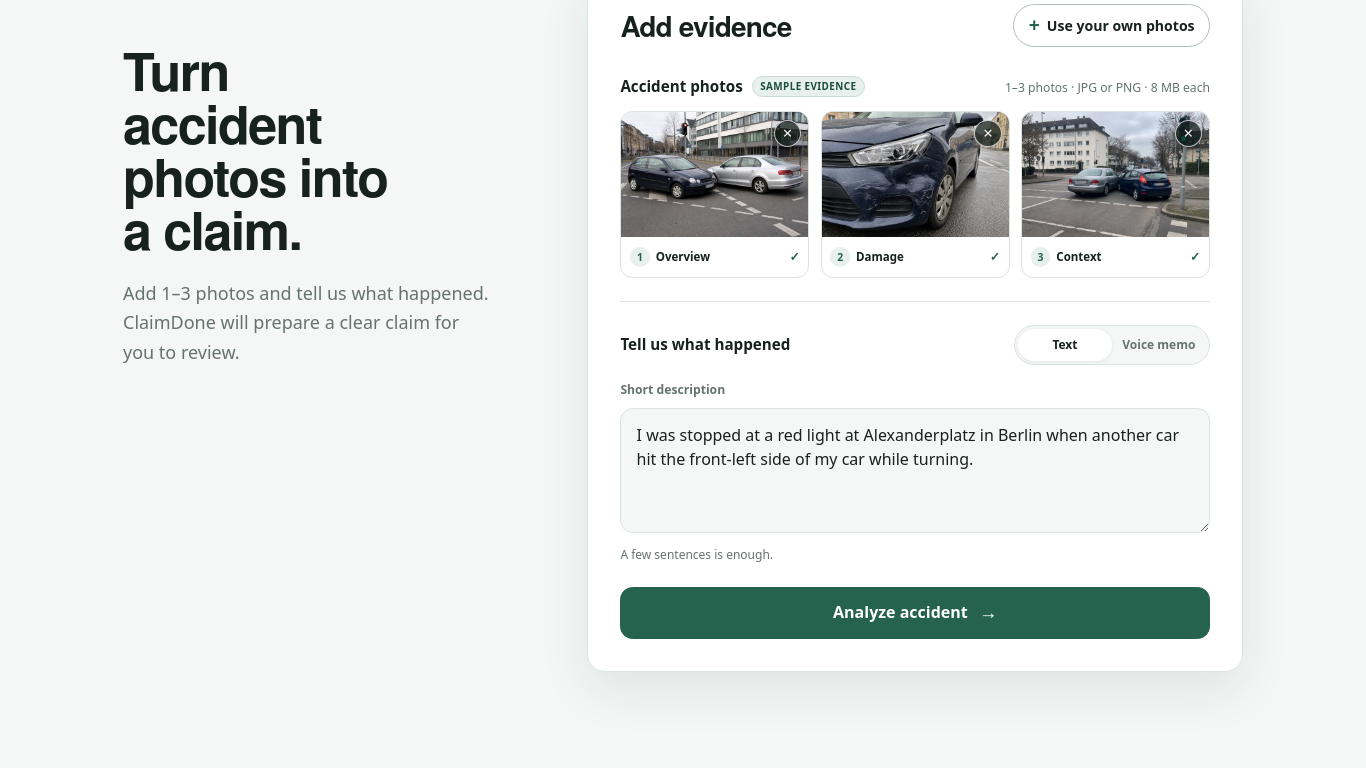
Test: ClaimExperience › completes the mock happy path
The width and height of the screenshot is (1366, 768).
(page scrolled)
Step 1. Click the button "Analyze accident →" → point(915, 612), box [620,586,1210,638]
(page scrolled)
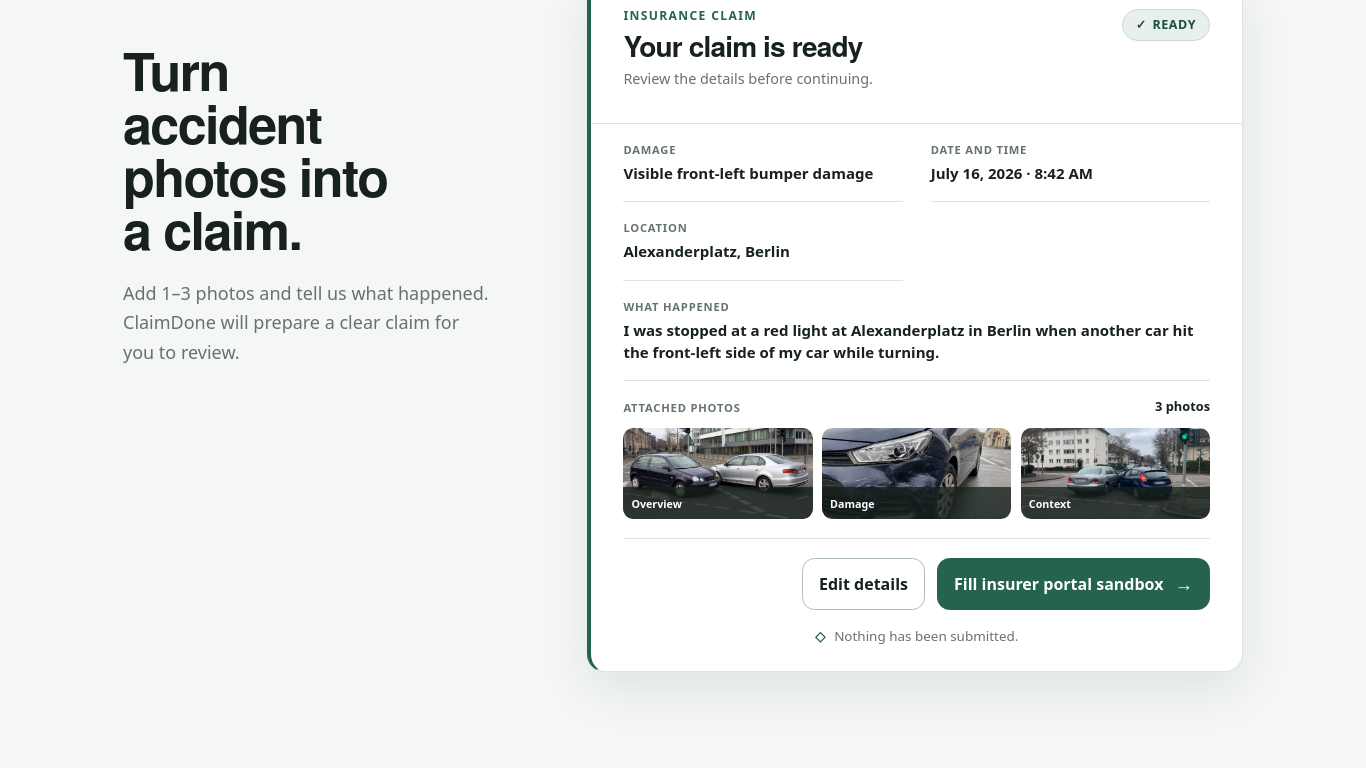
expect the heading "Your claim is ready" is shown: met, box [623,30,873,61]
expect the text "Alexanderplatz, Berlin" is shown: met, box [623,241,790,261]
expect the text "Nothing has been submitted." is shown: met, box [834,627,1018,645]
